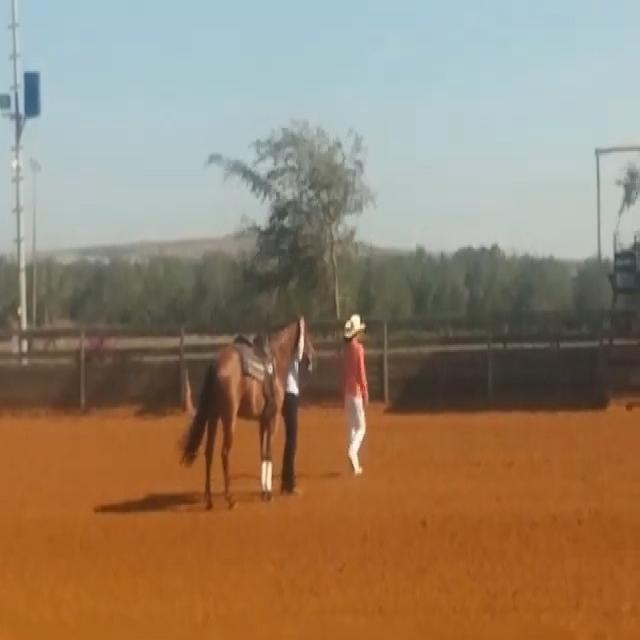horse: (178, 311, 315, 510)
